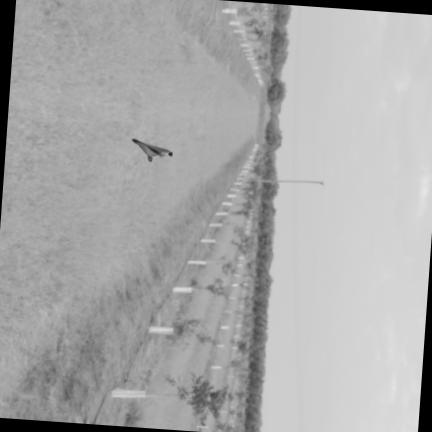Shahed: (132, 138, 171, 161)
